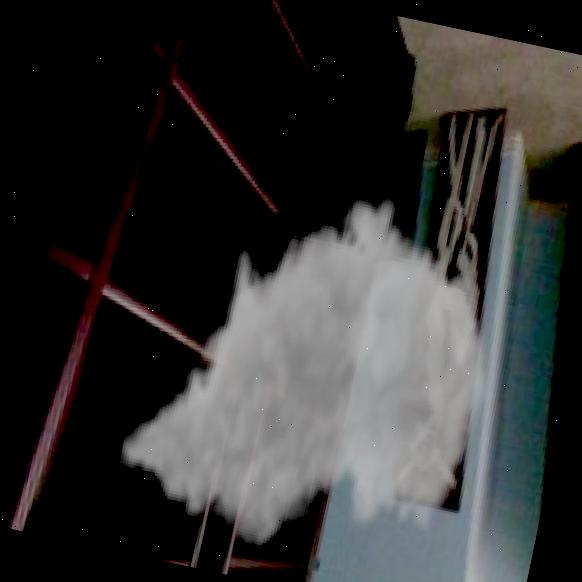smoke: (100, 145, 527, 582)
